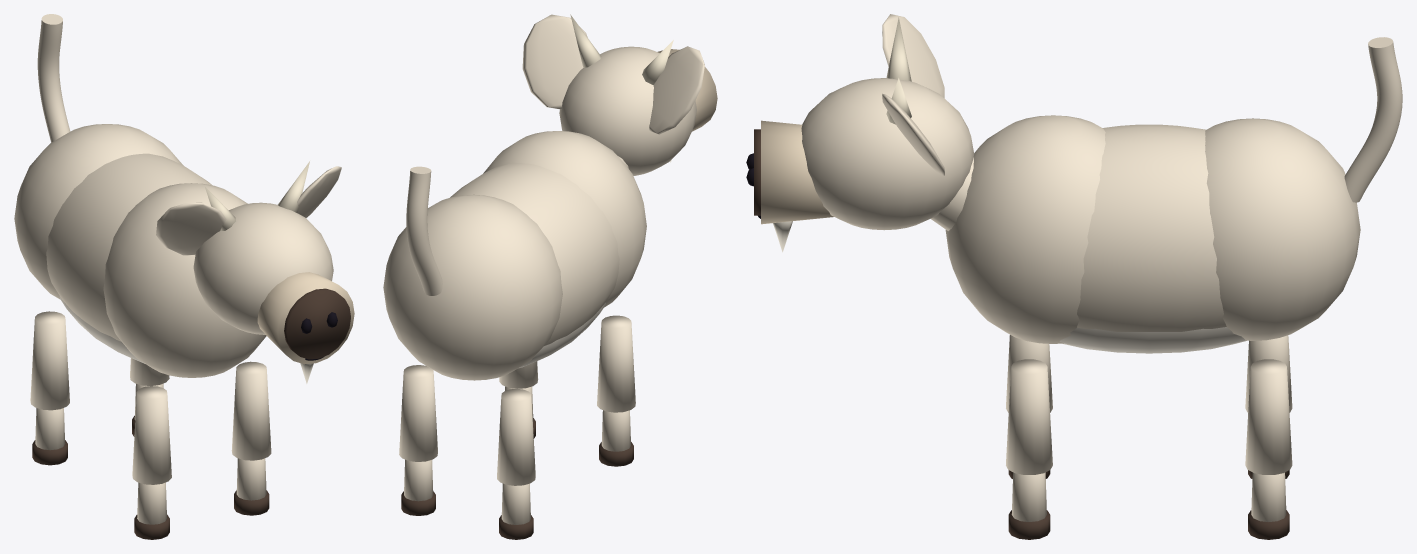
The model's file is goat.glb.
3 views of the same model, side by side, from view 1: azimuth 30°, elevation 25°; view 2: azimuth 150°, elevation 25°; view 3: azimuth 270°, elevation 25° (orthographic). The views are drawn at different scales.
Parts seen in each view (by area): view 1: body, head, legFR, legBR, legFL, tail, earR, earL, legBL; view 2: body, head, legBR, legFR, legBL, earL, earR, tail, legFL; view 3: body, head, legFL, legBL, tail, earR, legBR, earL, legFR.
Boxes of the visible parts, box(x1,y1,x2,y2) form: body: box(14, 124, 266, 377); head: box(193, 161, 354, 383); legFR: box(132, 386, 171, 539); legBR: box(30, 311, 69, 465); legFL: box(231, 361, 271, 515); tail: box(37, 14, 70, 142); earR: box(156, 202, 226, 255); earL: box(297, 166, 341, 217); legBL: box(130, 358, 169, 436); body: box(383, 131, 646, 380); head: box(559, 14, 717, 175); legBR: box(497, 388, 535, 539); legFR: box(597, 315, 635, 466); legBL: box(399, 365, 437, 515); earL: box(522, 14, 587, 109); earR: box(649, 46, 704, 134); tail: box(406, 166, 442, 295); legFL: box(499, 361, 538, 438); body: box(931, 115, 1360, 353); head: box(746, 17, 974, 252); legFL: box(1006, 359, 1052, 539); legBL: box(1245, 359, 1292, 539); tail: box(1344, 37, 1402, 202); earR: box(882, 14, 944, 97); legBR: box(1245, 335, 1292, 478); earL: box(882, 93, 944, 175); legFR: box(1006, 335, 1052, 478).
Size of the model in its own units: 0.6769 by 1.4 by 1.81.
